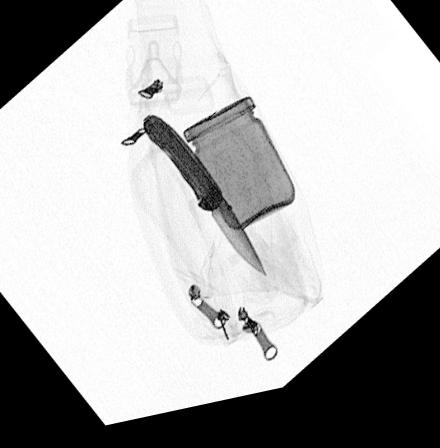Knife: (140, 119, 267, 288)
